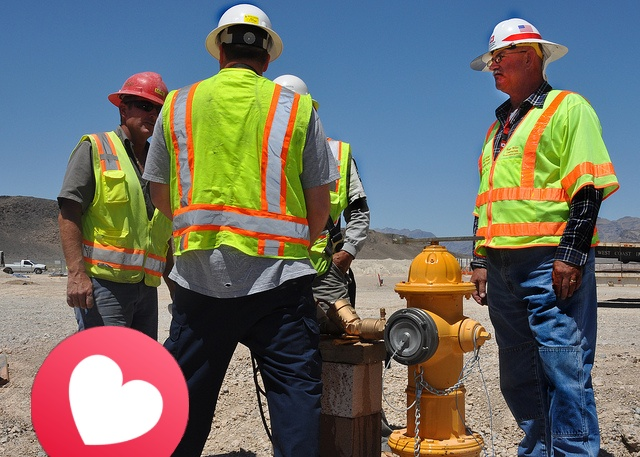love: (31, 326, 189, 457)
